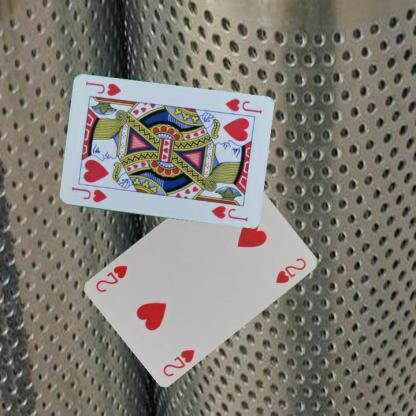2h: (160, 346, 196, 378)
Jh: (222, 96, 263, 115), (69, 184, 107, 204)
